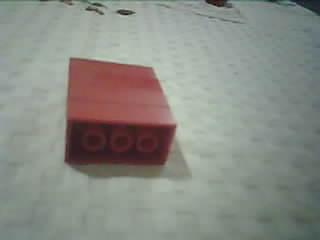lego: (62, 55, 178, 167)
